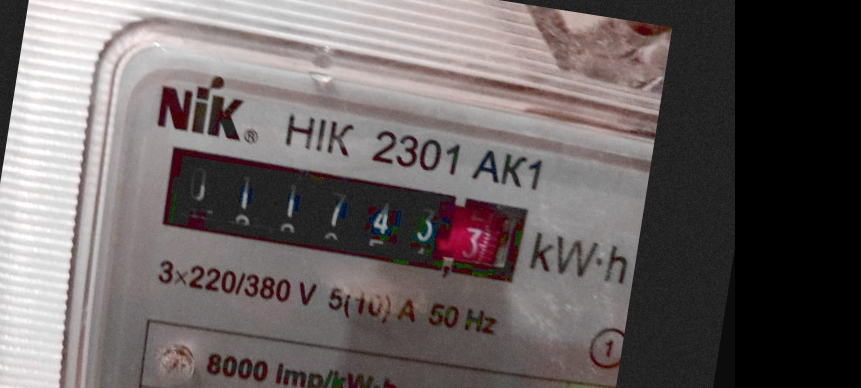0: (183, 162, 211, 204), (233, 169, 257, 212)
1: (279, 177, 301, 220)
3: (411, 201, 438, 247), (458, 221, 483, 262)
4: (367, 194, 393, 237)
7: (321, 184, 350, 231)
screen: (138, 130, 538, 295)
